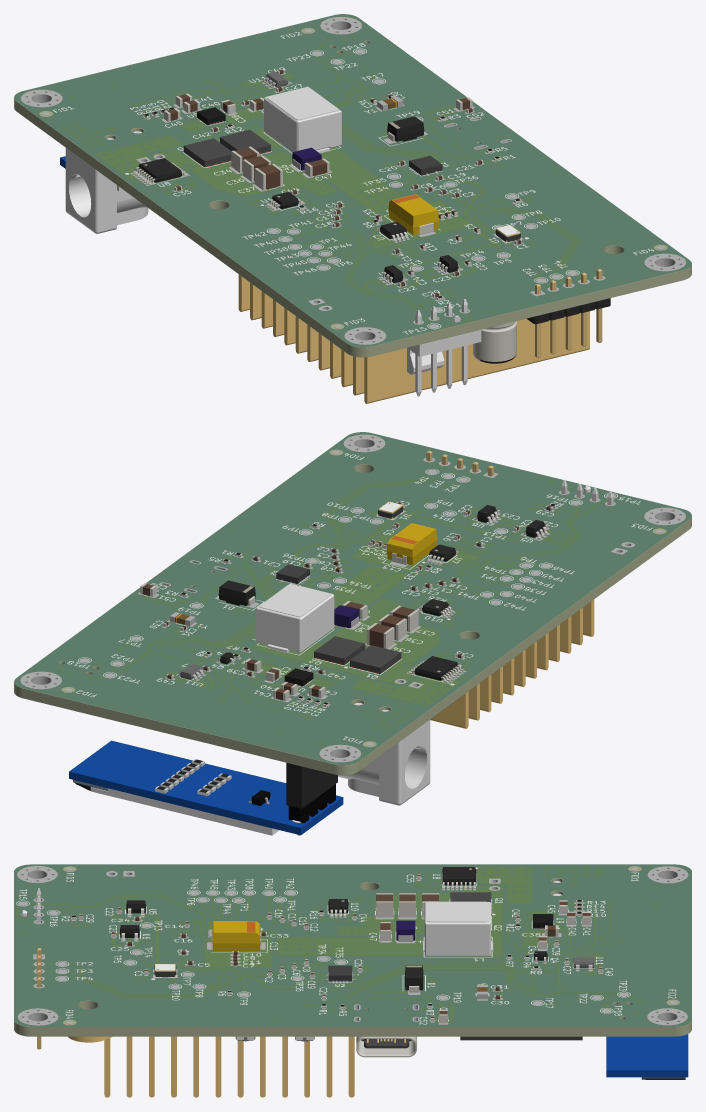
Rendered from board.glb.
3 views of the same model, one above another, from view 1: azimuth 30°, elevation 25°; view 2: azimuth 150°, elevation 25°; view 3: azimuth 270°, elevation 25° (orthographic). The views are drawn at different scales.
Visible parts, largest first — view 1: board_soldermask, board_PCB, Bitaxe Heatsink v1, board_copper, board_pad, board_silkscreen, 54-00164_shell, 11150900A (×2), SOLID, PinHeader_1x05_P254mm_Vertical, BODY-SON (×2), CP_EIA_7343_31_Kemet_D (+5 smaller); view 2: board_soldermask, board_PCB, OLED_0.91_128x32, board_copper, board_pad, board_silkscreen, Bitaxe Heatsink v1, 54-00164_shell, 11150900A (×2), BODY-SON (×2), PinSocket_1x04_P2.54mm_Vertical_SMD_Pin1Right, CP_EIA_7343_31_Kemet_D (+5 smaller); view 3: board_soldermask, board_PCB, board_copper, board_silkscreen, board_pad, Bitaxe Heatsink v1, OLED_0.91_128x32, 11150900A, CP_EIA_7343_31_Kemet_D, Label for FP1006V2-R, USB_C_Receptacle_16P_TopMnt_Horizontal_GCT_USB4105-xx-A, C_1210_3225Metric (×2) (+5 smaller).
Part boxes in pixels (x1=…): board_soldermask: x1=14, y1=14, x2=691, y2=347; board_PCB: x1=14, y1=15, x2=691, y2=357; Bitaxe Heatsink v1: x1=238, y1=274, x2=589, y2=403; board_copper: x1=63, y1=37, x2=580, y2=327; board_pad: x1=21, y1=17, x2=685, y2=344; board_silkscreen: x1=53, y1=32, x2=653, y2=334; 54-00164_shell: x1=65, y1=131, x2=148, y2=233; 11150900A (×2): x1=264, y1=86, x2=341, y2=151; SOLID: x1=407, y1=299, x2=481, y2=396; PinHeader_1x05_P254mm_Vertical: x1=527, y1=269, x2=610, y2=357; BODY-SON (×2): x1=183, y1=129, x2=270, y2=167; CP_EIA_7343_31_Kemet_D: x1=388, y1=194, x2=438, y2=234; board_soldermask: x1=14, y1=432, x2=691, y2=765; board_PCB: x1=14, y1=433, x2=691, y2=775; OLED_0.91_128x32: x1=69, y1=740, x2=343, y2=835; board_copper: x1=58, y1=466, x2=608, y2=744; board_pad: x1=20, y1=434, x2=685, y2=762; board_silkscreen: x1=67, y1=453, x2=652, y2=743; Bitaxe Heatsink v1: x1=430, y1=599, x2=594, y2=728; 54-00164_shell: x1=338, y1=702, x2=430, y2=805; 11150900A (×2): x1=256, y1=583, x2=334, y2=652; BODY-SON (×2): x1=314, y1=636, x2=401, y2=673; PinSocket_1x04_P2.54mm_Vertical_SMD_Pin1Right: x1=286, y1=763, x2=337, y2=808; CP_EIA_7343_31_Kemet_D: x1=386, y1=523, x2=437, y2=565; board_soldermask: x1=14, y1=864, x2=691, y2=1026; board_PCB: x1=14, y1=865, x2=691, y2=1036; board_copper: x1=17, y1=867, x2=659, y2=1023; board_silkscreen: x1=16, y1=867, x2=676, y2=1024; board_pad: x1=17, y1=866, x2=688, y2=1025; Bitaxe Heatsink v1: x1=68, y1=1036, x2=354, y2=1097; OLED_0.91_128x32: x1=606, y1=1034, x2=688, y2=1079; 11150900A: x1=424, y1=912, x2=490, y2=956; CP_EIA_7343_31_Kemet_D: x1=211, y1=921, x2=261, y2=950; Label for FP1006V2-R: x1=427, y1=901, x2=488, y2=922; USB_C_Receptacle_16P_TopMnt_Horizontal_GCT_USB4105-xx-A: x1=356, y1=1036, x2=416, y2=1057; C_1210_3225Metric (×2): x1=376, y1=893, x2=415, y2=917.
Bounding box in the file's own units: 0.0566 × 0.0221 × 0.0998.
